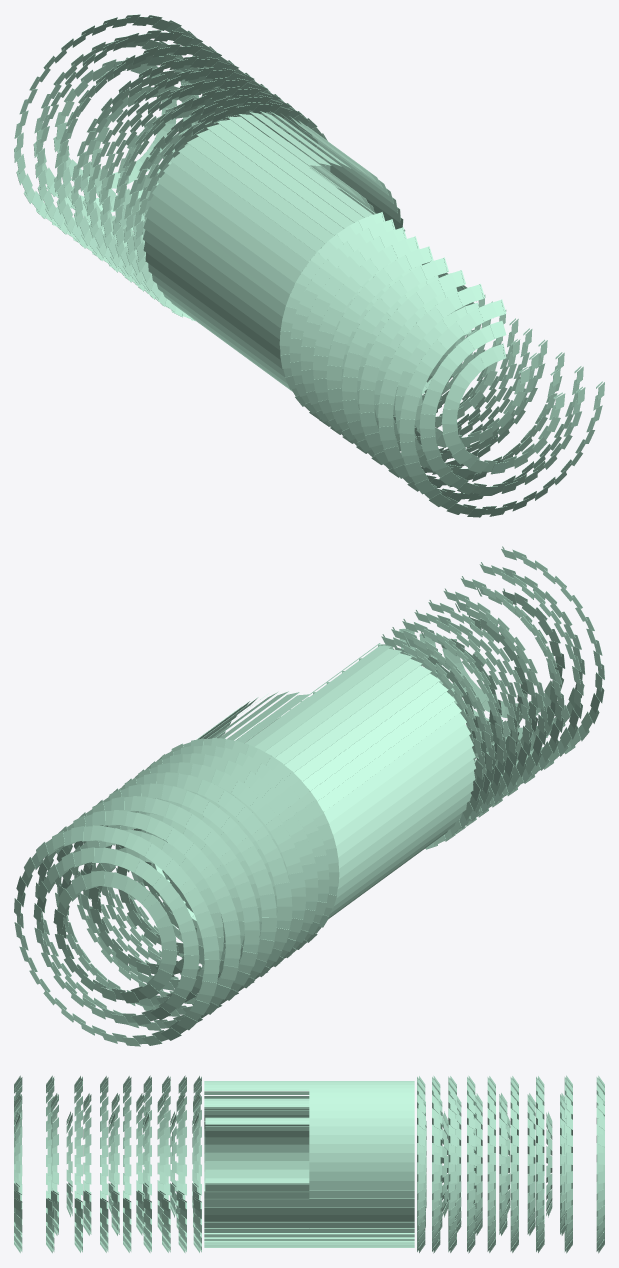
File: ITK-Pixel-Layout-Outer-Barrel-cut4.glb
The picture shows the model from 3 angles, top to bottom: view 1: azimuth 30°, elevation 25°; view 2: azimuth 150°, elevation 25°; view 3: azimuth 270°, elevation 25°; orthographic projection. The views are drawn at different scales.
Parts seen in each view (by area): view 1: ITK_Pixel_Layout_Outer_Barrel Cut 4; view 2: ITK_Pixel_Layout_Outer_Barrel Cut 4; view 3: ITK_Pixel_Layout_Outer_Barrel Cut 4.
Part boxes in pixels (x1,y1,x2,y2): ITK_Pixel_Layout_Outer_Barrel Cut 4: (14, 14, 604, 517); ITK_Pixel_Layout_Outer_Barrel Cut 4: (14, 546, 604, 1046); ITK_Pixel_Layout_Outer_Barrel Cut 4: (14, 1075, 604, 1253).
Bounding box in the file's own units: 0.6337 × 0.6337 × 2.1.
